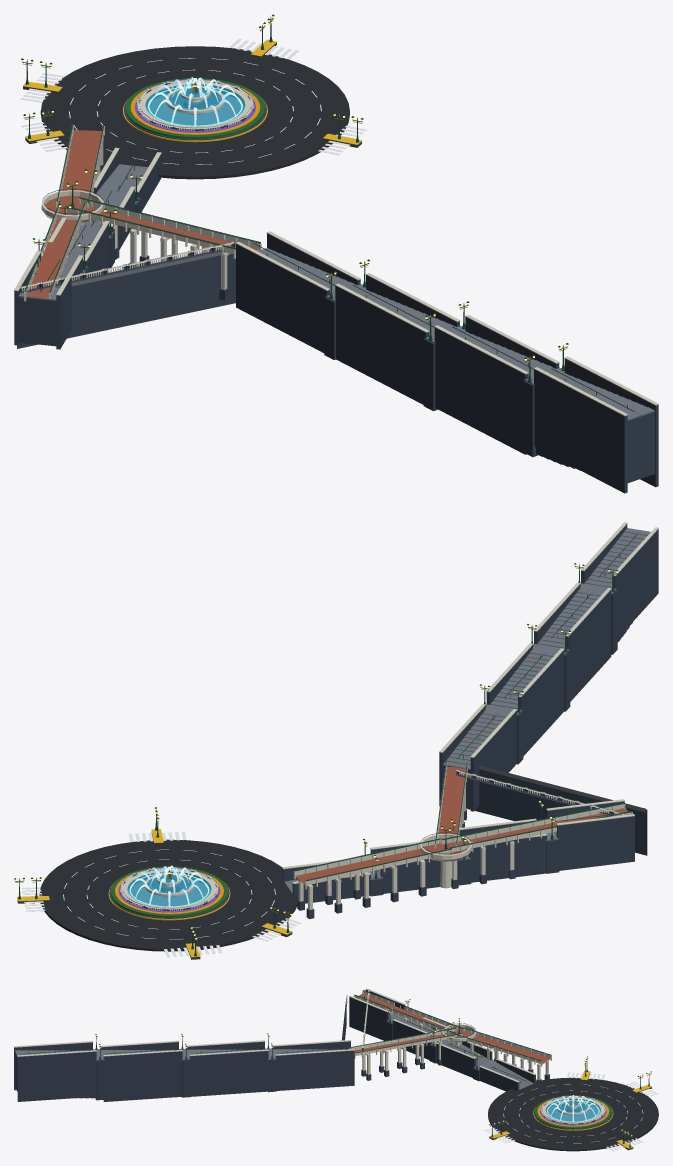
Rendered from vong_xoay_dai_phun_nuoc_va_cau_chu_y_hoa_binh.glb.
3 renders of one model, top to bottom at view 1: azimuth 30°, elevation 25°; view 2: azimuth 150°, elevation 25°; view 3: azimuth 270°, elevation 25°, orthographic. The views are drawn at different scales.
Visible parts, largest first — view 1: Taluy_DaChe_RetainingWalls_And_Plinths, VongXoay_Roundabout_Asphalt_And_Apron, CauChuY_Modernist_Concrete_And_Balusters, KhuHoaBinh_120_Granite_Stair_Steps, CauChuY_Overpass_Deck_Terrazzo, HongKong_Bridge_Railings_And_LampPosts, Fountain_Concentric_Water_Basins, VongXoay_Zebra_Crosswalks_And_Markings, VongXoay_Splitter_Curbs_Yellow, Fountain_Parterre_Boxwood_Hedges, Fountain_24_Parabolic_Water_Jets; view 2: Taluy_DaChe_RetainingWalls_And_Plinths, VongXoay_Roundabout_Asphalt_And_Apron, CauChuY_Modernist_Concrete_And_Balusters, KhuHoaBinh_120_Granite_Stair_Steps, CauChuY_Overpass_Deck_Terrazzo, HongKong_Bridge_Railings_And_LampPosts, Fountain_Concentric_Water_Basins, VongXoay_Zebra_Crosswalks_And_Markings, VongXoay_Splitter_Curbs_Yellow, Fountain_Parterre_Boxwood_Hedges, Fountain_24_Parabolic_Water_Jets; view 3: Taluy_DaChe_RetainingWalls_And_Plinths, VongXoay_Roundabout_Asphalt_And_Apron, CauChuY_Modernist_Concrete_And_Balusters, KhuHoaBinh_120_Granite_Stair_Steps, HongKong_Bridge_Railings_And_LampPosts, CauChuY_Overpass_Deck_Terrazzo, Fountain_Concentric_Water_Basins, VongXoay_Zebra_Crosswalks_And_Markings, VongXoay_Splitter_Curbs_Yellow, Fountain_Parterre_Boxwood_Hedges, Fountain_24_Parabolic_Water_Jets.
Boxes of the visible parts, x1,y1,x2,y2 form: Taluy_DaChe_RetainingWalls_And_Plinths: [14, 43, 658, 493]; VongXoay_Roundabout_Asphalt_And_Apron: [40, 46, 349, 179]; CauChuY_Modernist_Concrete_And_Balusters: [14, 78, 658, 416]; KhuHoaBinh_120_Granite_Stair_Steps: [18, 164, 654, 420]; CauChuY_Overpass_Deck_Terrazzo: [26, 130, 259, 298]; HongKong_Bridge_Railings_And_LampPosts: [21, 14, 634, 411]; Fountain_Concentric_Water_Basins: [145, 85, 245, 125]; VongXoay_Zebra_Crosswalks_And_Markings: [20, 38, 366, 164]; VongXoay_Splitter_Curbs_Yellow: [23, 39, 362, 144]; Fountain_Parterre_Boxwood_Hedges: [125, 78, 264, 138]; Fountain_24_Parabolic_Water_Jets: [148, 76, 241, 125]; Taluy_DaChe_RetainingWalls_And_Plinths: [17, 524, 658, 959]; VongXoay_Roundabout_Asphalt_And_Apron: [39, 839, 298, 951]; CauChuY_Modernist_Concrete_And_Balusters: [120, 522, 658, 910]; KhuHoaBinh_120_Granite_Stair_Steps: [284, 528, 650, 893]; CauChuY_Overpass_Deck_Terrazzo: [295, 767, 627, 884]; HongKong_Bridge_Railings_And_LampPosts: [14, 532, 638, 956]; Fountain_Concentric_Water_Basins: [127, 872, 211, 906]; VongXoay_Zebra_Crosswalks_And_Markings: [21, 832, 301, 957]; VongXoay_Splitter_Curbs_Yellow: [17, 829, 292, 957]; Fountain_Parterre_Boxwood_Hedges: [111, 866, 227, 917]; Fountain_24_Parabolic_Water_Jets: [130, 865, 208, 906]; Taluy_DaChe_RetainingWalls_And_Plinths: [14, 990, 651, 1150]; VongXoay_Roundabout_Asphalt_And_Apron: [488, 1077, 658, 1151]; CauChuY_Modernist_Concrete_And_Balusters: [14, 988, 606, 1124]; KhuHoaBinh_120_Granite_Stair_Steps: [15, 993, 533, 1089]; HongKong_Bridge_Railings_And_LampPosts: [20, 990, 651, 1147]; CauChuY_Overpass_Deck_Terrazzo: [354, 993, 550, 1063]; Fountain_Concentric_Water_Basins: [545, 1099, 600, 1121]; VongXoay_Zebra_Crosswalks_And_Markings: [484, 1072, 658, 1151]; VongXoay_Splitter_Curbs_Yellow: [489, 1070, 651, 1148]; Fountain_Parterre_Boxwood_Hedges: [534, 1095, 611, 1128]; Fountain_24_Parabolic_Water_Jets: [547, 1095, 599, 1121].
Bounding box in the file's own units: 96.68 × 20.45 × 192.
